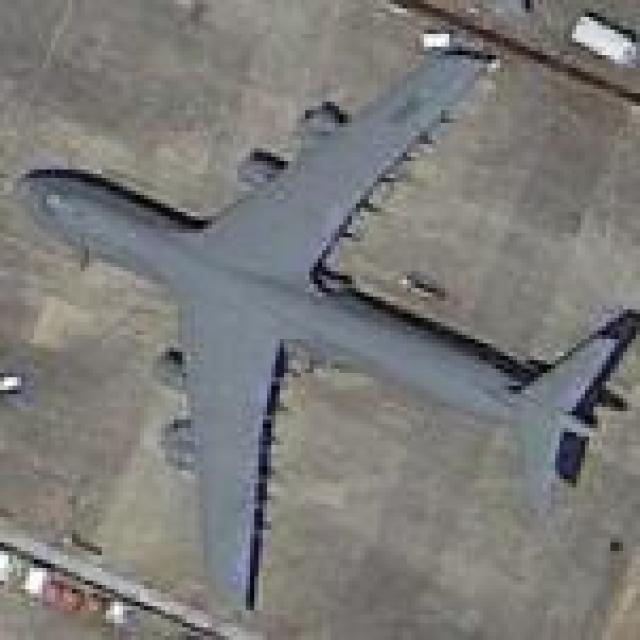C-5_TopDown: (12, 44, 633, 614)
